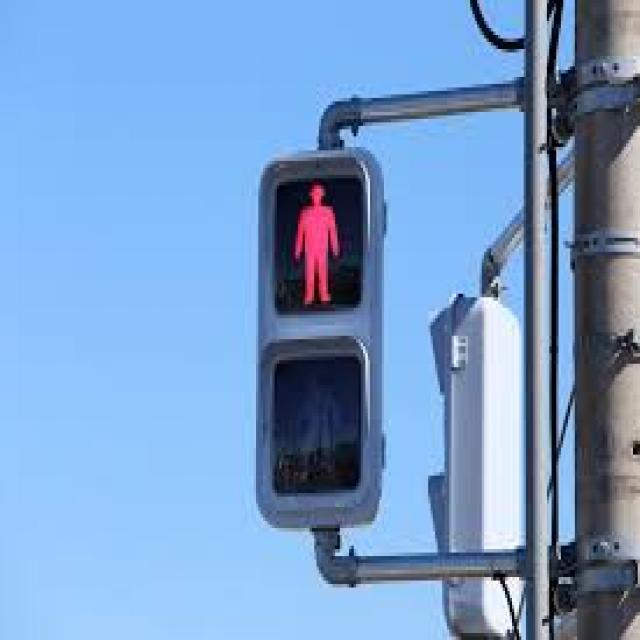trafficlight: (249, 147, 382, 524)
